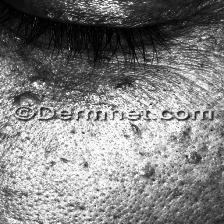Benign Marking or Mole: (66, 125, 210, 184), (9, 75, 89, 104), (113, 73, 178, 103)
